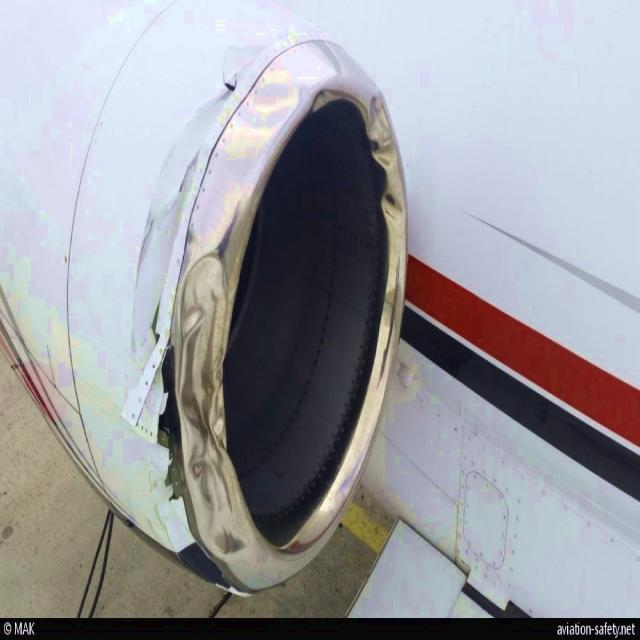dent: (177, 256, 249, 552), (372, 94, 404, 335), (237, 75, 304, 131)
